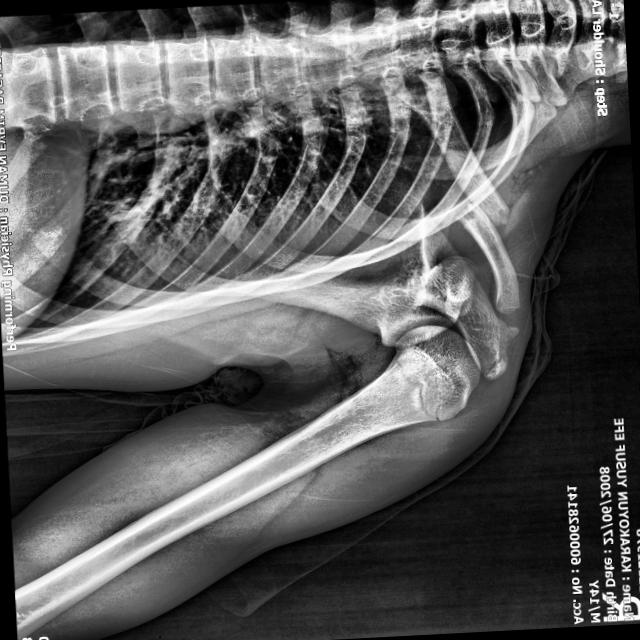Fracture: (454, 196, 514, 235)
